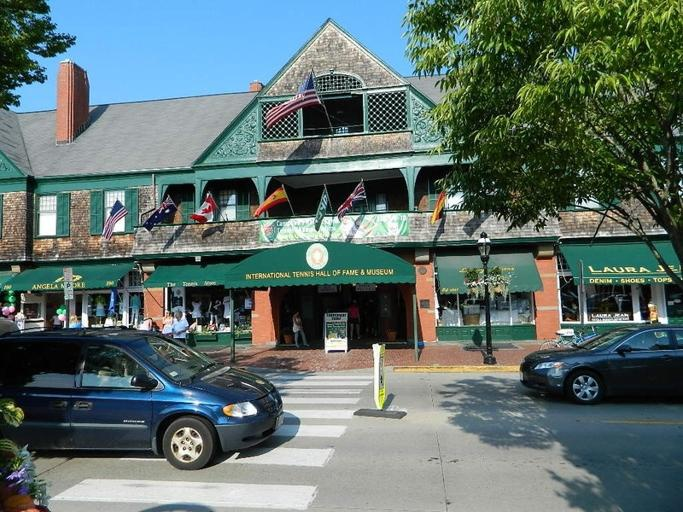non-vehicle: (536, 330, 584, 351), (556, 325, 600, 345)
